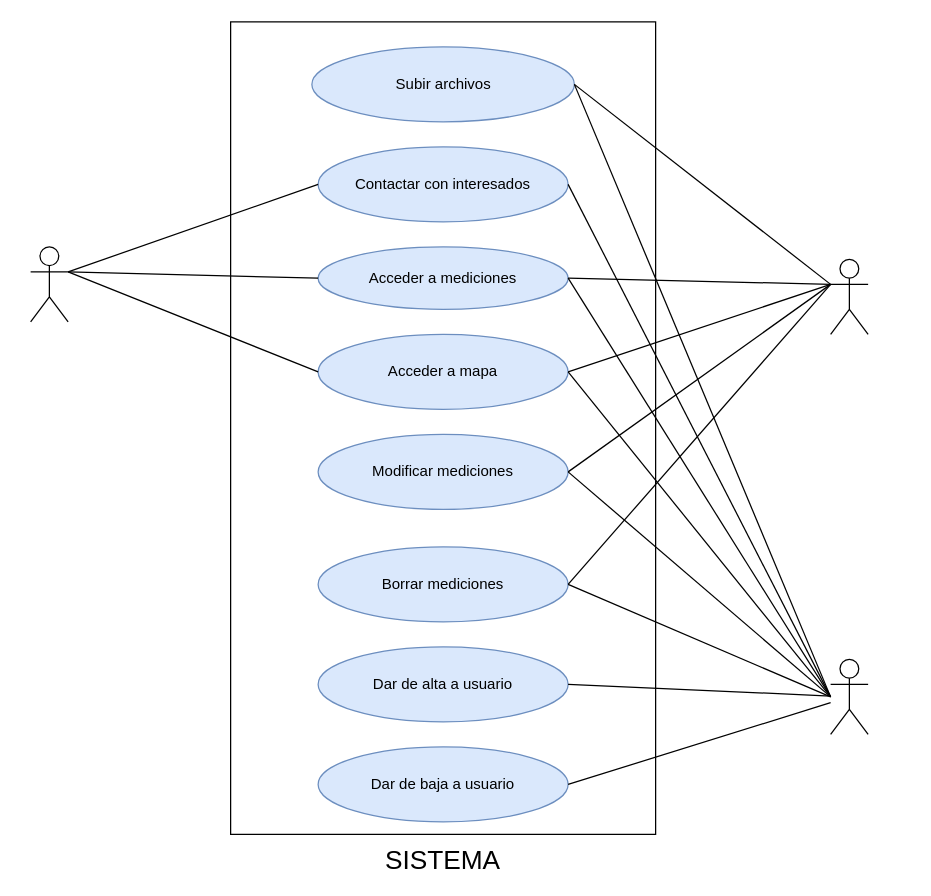
This 931x896 diagram has some shape labels left out. The shapes that lost their labels are listed below. From the top down, each one's centre as x and y in pixels, then its label:
At point 48,284: "visitante".
At point 848,296: "Usuario registrado".
At point 848,696: "Administrador".
